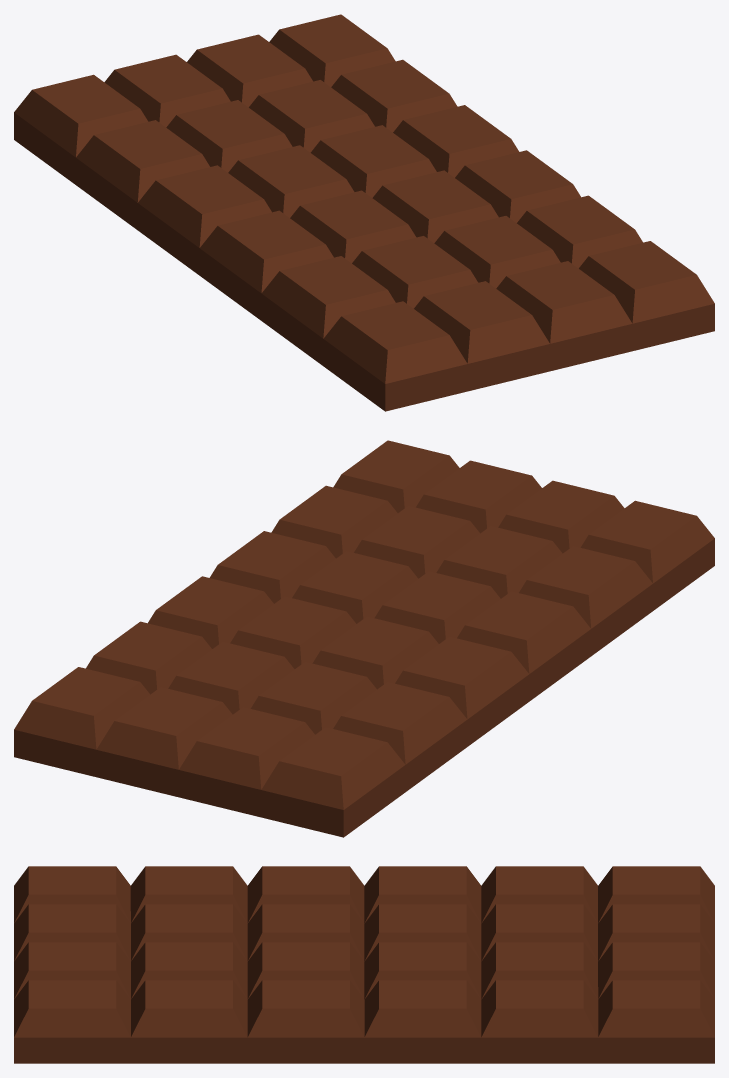
The model's file is ChocolateBar_01.fbx.
The picture shows the model from 3 angles, top to bottom: view 1: azimuth 30°, elevation 25°; view 2: azimuth 150°, elevation 25°; view 3: azimuth 270°, elevation 25°; orthographic projection. The views are drawn at different scales.
Parts seen in each view (by area): view 1: ChocolateBar_01; view 2: ChocolateBar_01; view 3: ChocolateBar_01.
Part boxes in pixels (x1=…): ChocolateBar_01: x1=14, y1=14, x2=714, y2=411; ChocolateBar_01: x1=14, y1=440, x2=714, y2=837; ChocolateBar_01: x1=14, y1=866, x2=714, y2=1063.
Bounding box in the file's own units: 0.0958 × 0.0148 × 0.1868.
